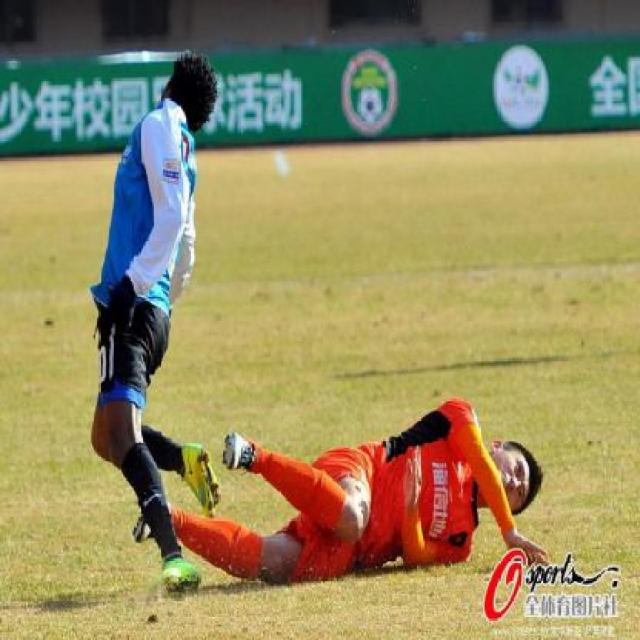fall: (147, 378, 558, 596)
